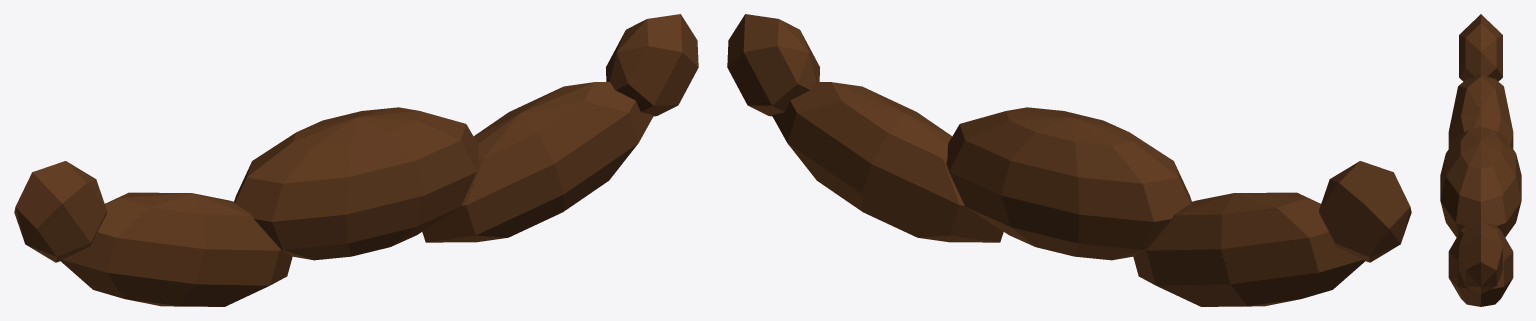
File: cop_mustache.glb
3 renders of one model, left to right at view 1: azimuth 30°, elevation 25°; view 2: azimuth 150°, elevation 25°; view 3: azimuth 270°, elevation 25°, orthographic. The views are drawn at different scales.
Parts seen in each view (by area): view 1: mustache_mustache_hair; view 2: mustache_mustache_hair; view 3: mustache_mustache_hair.
Boxes of the visible parts, box(x1,y1,x2,y2) form: mustache_mustache_hair: box(14, 14, 698, 306); mustache_mustache_hair: box(727, 14, 1411, 306); mustache_mustache_hair: box(1440, 14, 1521, 306).
Bounding box in the file's own units: 0.6458 × 0.1645 × 0.0951.
